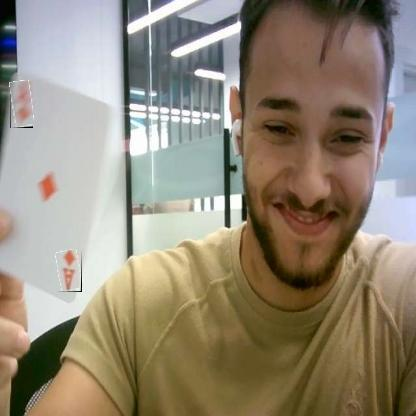AD: (10, 81, 33, 128), (57, 250, 82, 292)
